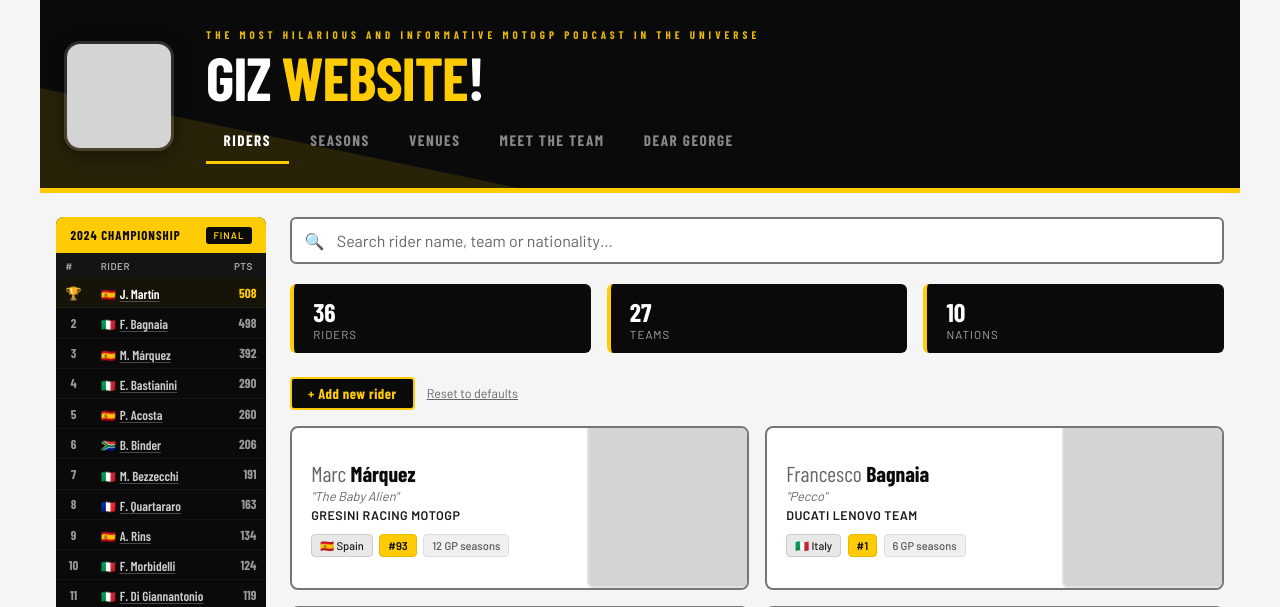
it: Venues view › search box filters venues by circuit name
Click the button "Venues". click: [435, 142]
box: [391,119,478,164]
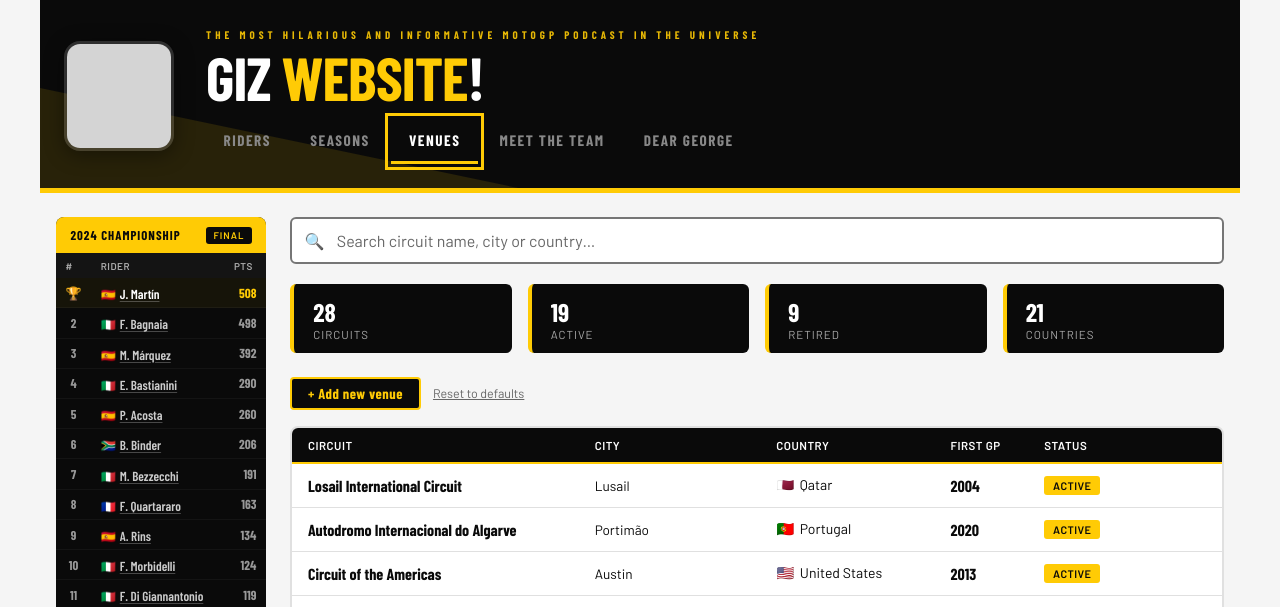
Type "Losail" into the search field named "search circuits". click: [757, 241]
box: [290,217,1224,264]
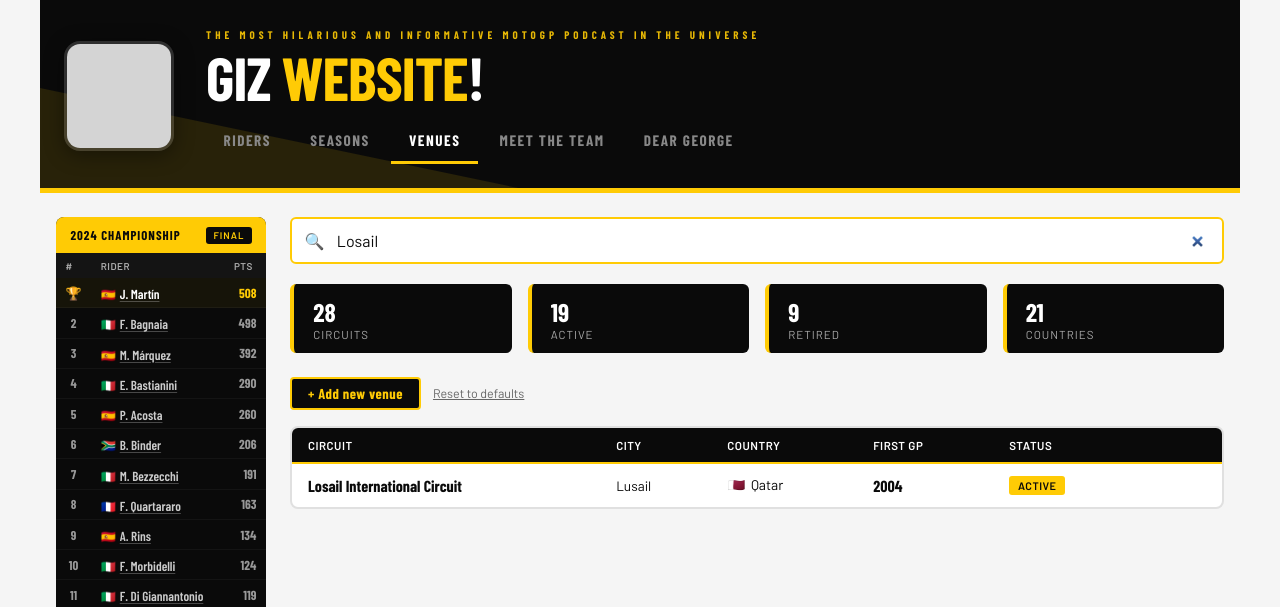
Expected: the text "Losail International Circuit" is shown, [292,462,600,507]
Expected: the text "Autodromo Internacional do Algarve" is gone
